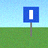sign: (23, 7, 39, 37)
